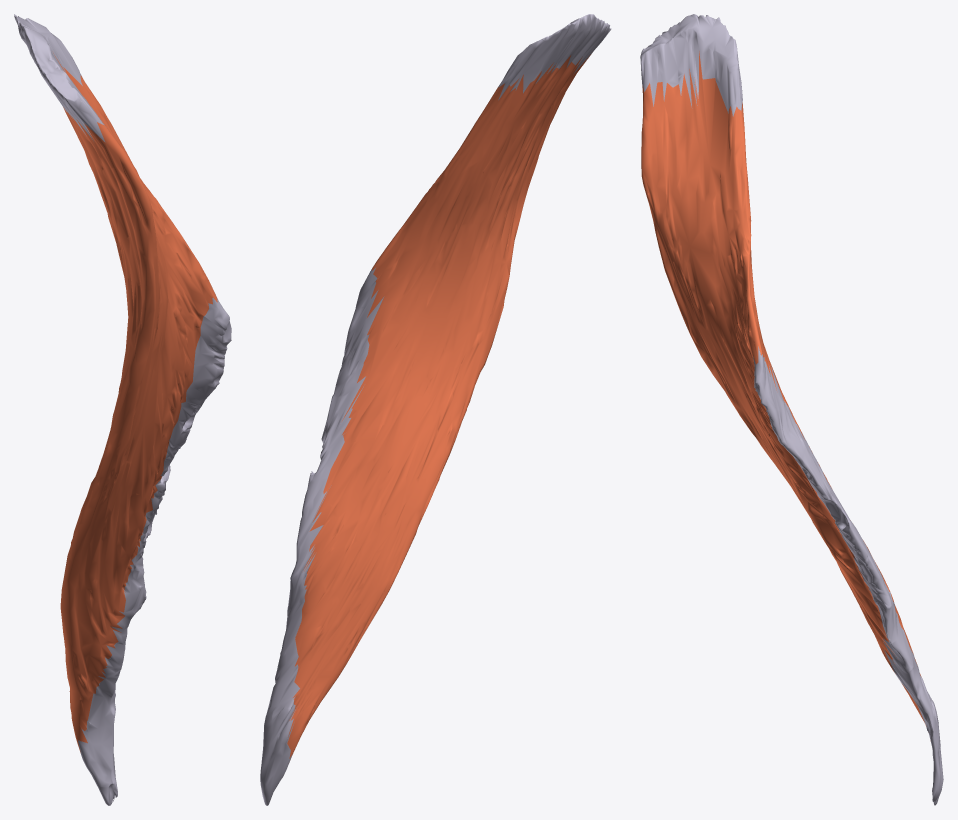
Rendered from Splenius_capitis_muscle.r_Generated_Mesh_From_X3D.204.glb.
3 renders of one model, left to right at view 1: azimuth 30°, elevation 25°; view 2: azimuth 150°, elevation 25°; view 3: azimuth 270°, elevation 25°, orthographic. The views are drawn at different scales.
Parts seen in each view (by area): view 1: Splenius_capitis_muscle.r_Generated_Mesh_From_X3D.204; view 2: Splenius_capitis_muscle.r_Generated_Mesh_From_X3D.204; view 3: Splenius_capitis_muscle.r_Generated_Mesh_From_X3D.204.
Boxes of the visible parts, x1,y1,x2,y2 form: Splenius_capitis_muscle.r_Generated_Mesh_From_X3D.204: [14, 14, 231, 805]; Splenius_capitis_muscle.r_Generated_Mesh_From_X3D.204: [260, 14, 611, 805]; Splenius_capitis_muscle.r_Generated_Mesh_From_X3D.204: [640, 14, 943, 805].
Size of the model in its own units: 0.0613 by 0.2156 by 0.0844.
